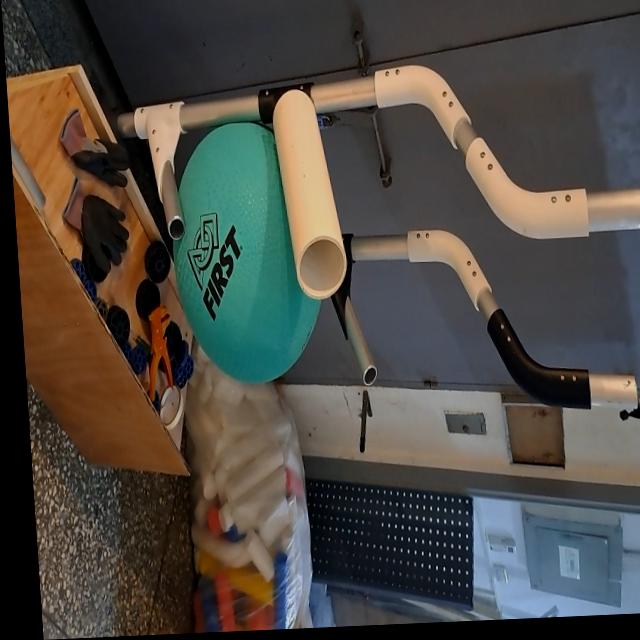ALGAE: (161, 120, 319, 388)
CORAL: (269, 88, 351, 305)
